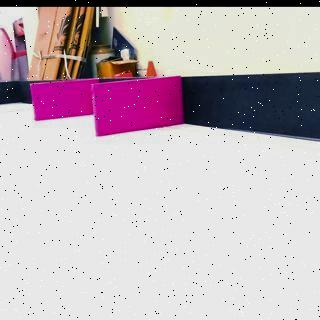xparking: (92, 82, 182, 136), (32, 80, 90, 118)
